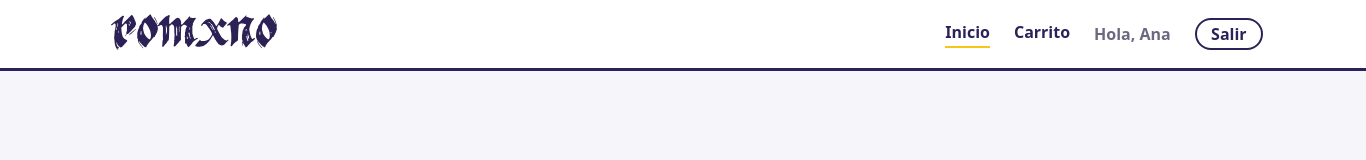
it: Header › saluda al usuario y permite cerrar sesión
Expected: the text "Hola, Ana" is shown, [1094, 22, 1171, 46]
Click the button "Salir" at (1229, 34), box [1195, 18, 1263, 50]
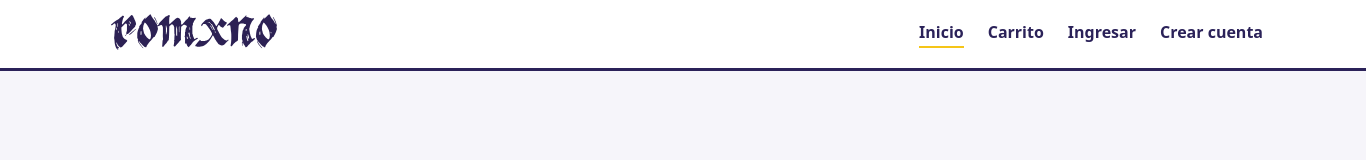
Result: the link "Ingresar" is shown at [1068, 20, 1136, 48]
